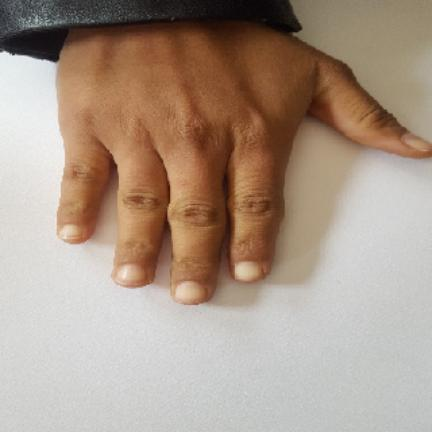Nail: (175, 281, 208, 305), (114, 263, 145, 285), (401, 132, 431, 152), (235, 261, 263, 281), (61, 224, 82, 239)
